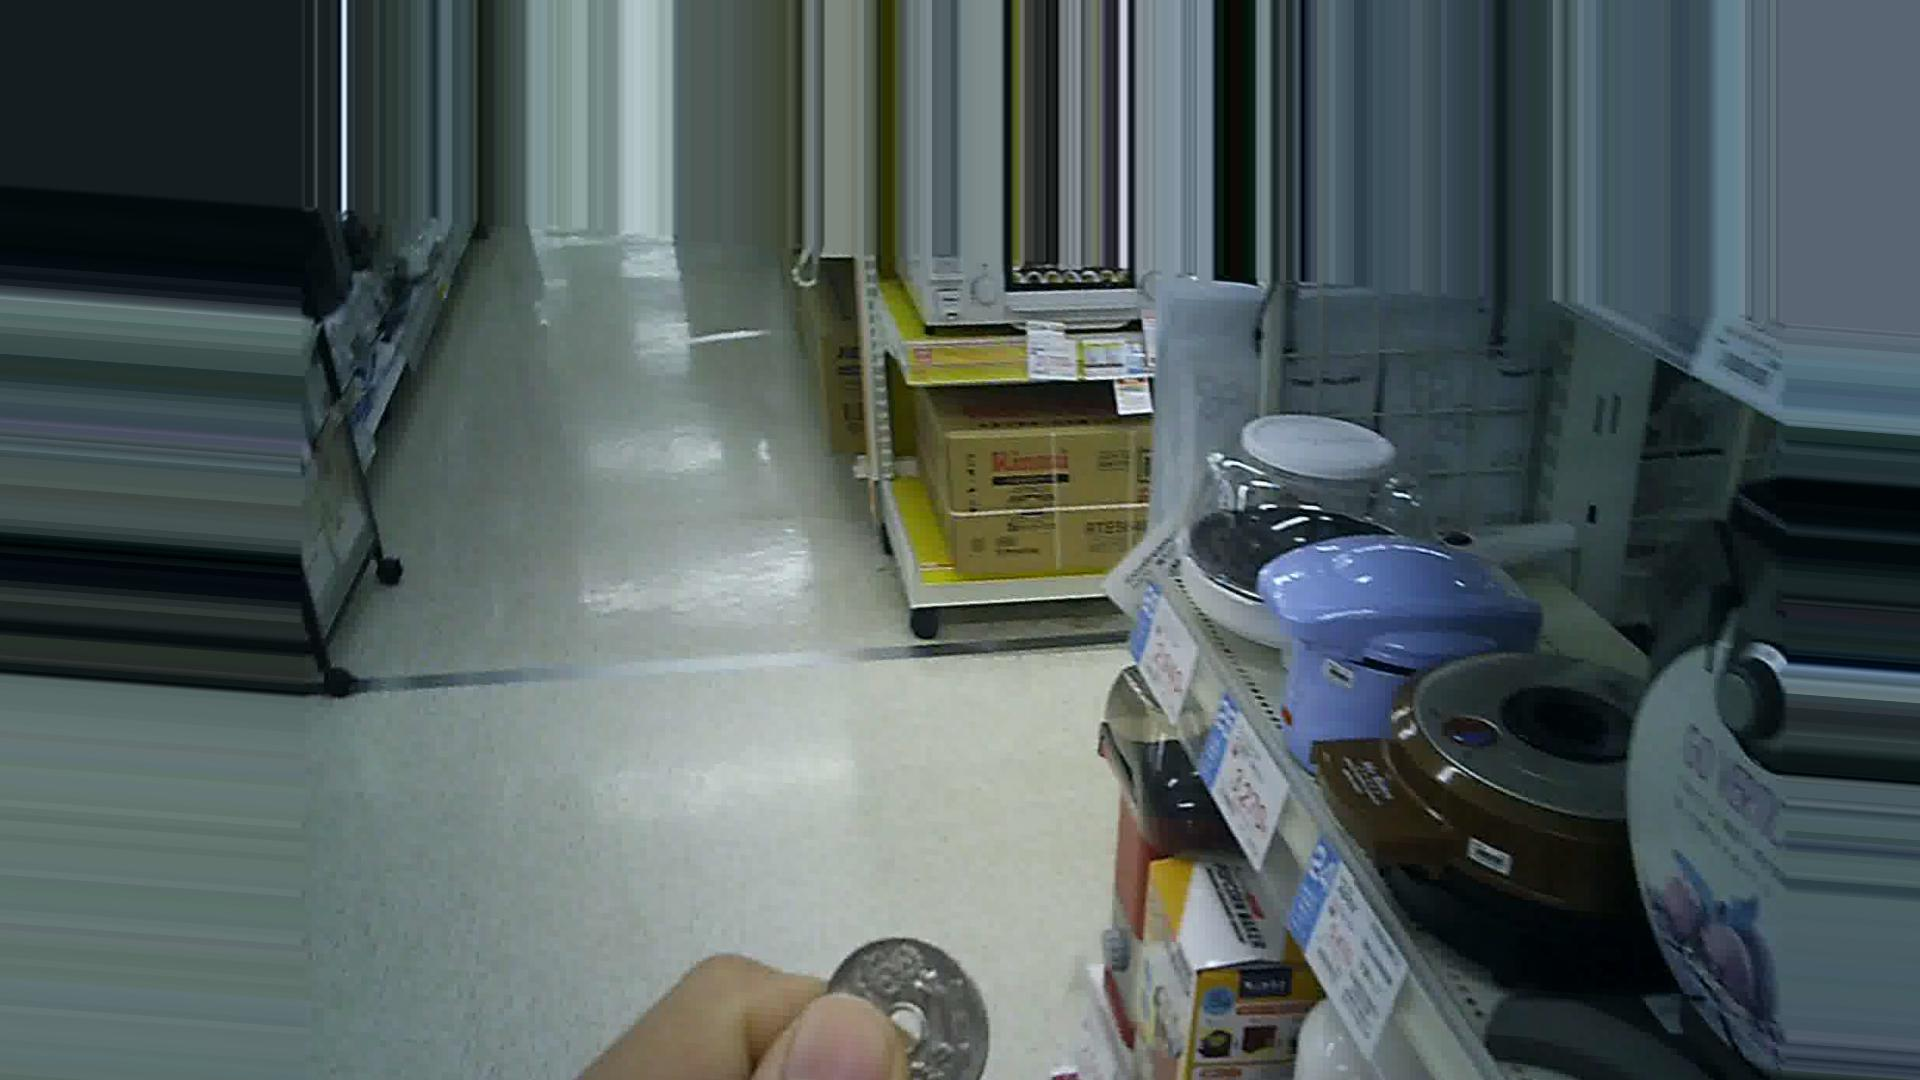50 Yen: (820, 931, 998, 1079)
